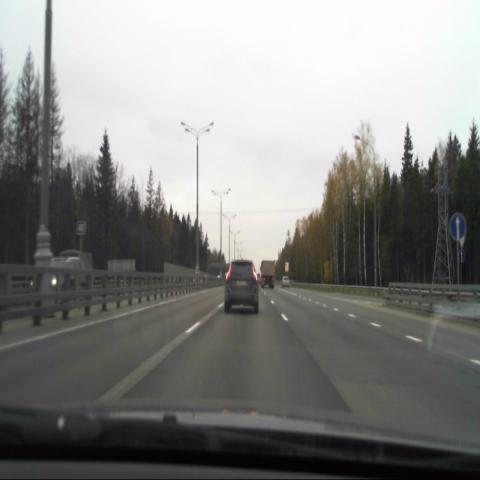4_1_1: (450, 210, 466, 240)
